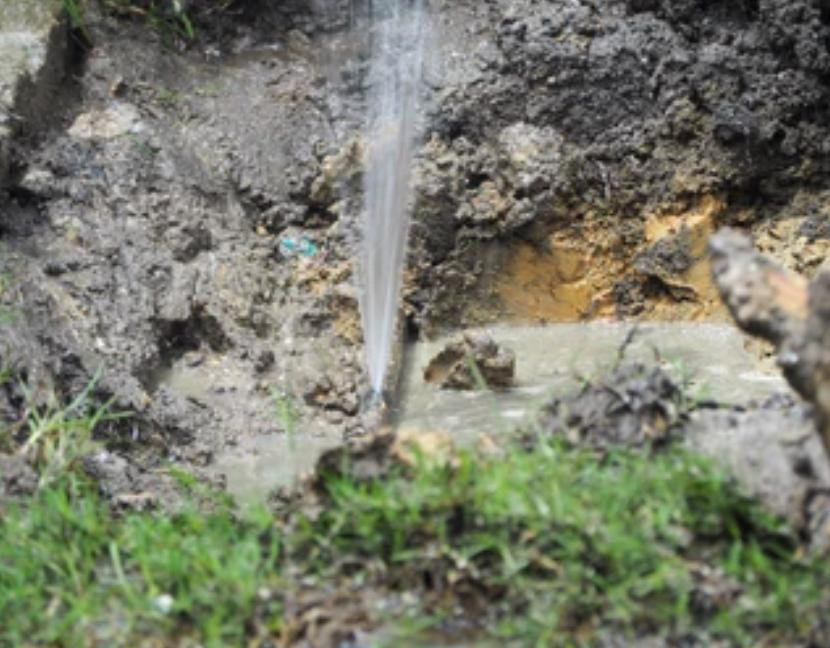pipe burst: (349, 0, 432, 403)
